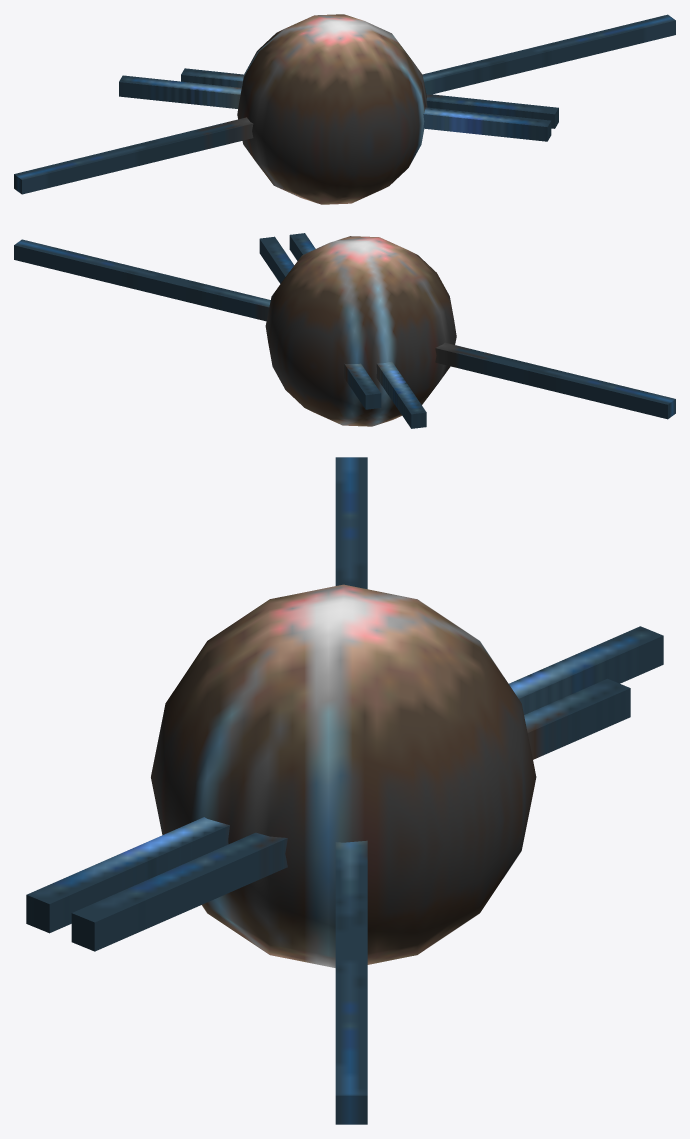
File: kralov_prj.FBX
The picture shows the model from 3 angles, top to bottom: view 1: azimuth 30°, elevation 25°; view 2: azimuth 150°, elevation 25°; view 3: azimuth 270°, elevation 25°; orthographic projection. The views are drawn at different scales.
Parts seen in each view (by area): view 1: kralov_prj; view 2: kralov_prj; view 3: kralov_prj.
Boxes of the visible parts, box(x1,y1,x2,y2) form: kralov_prj: box(14, 14, 675, 204); kralov_prj: box(14, 233, 675, 428); kralov_prj: box(26, 457, 663, 1124).
Bounding box in the file's own units: 47 × 19.82 × 12.
